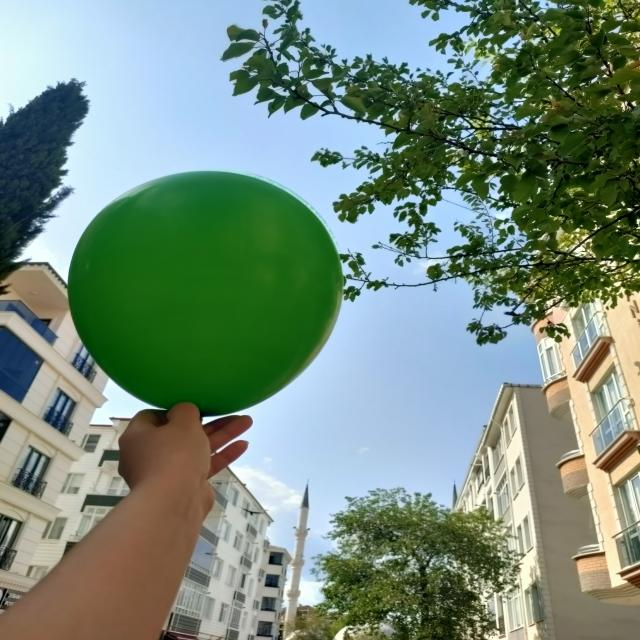green: (71, 173, 339, 417)
